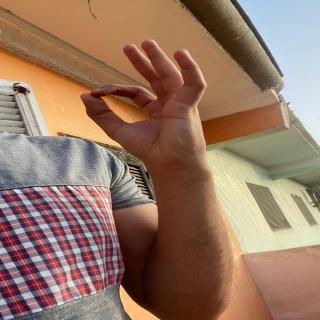Space: (75, 35, 214, 155)
